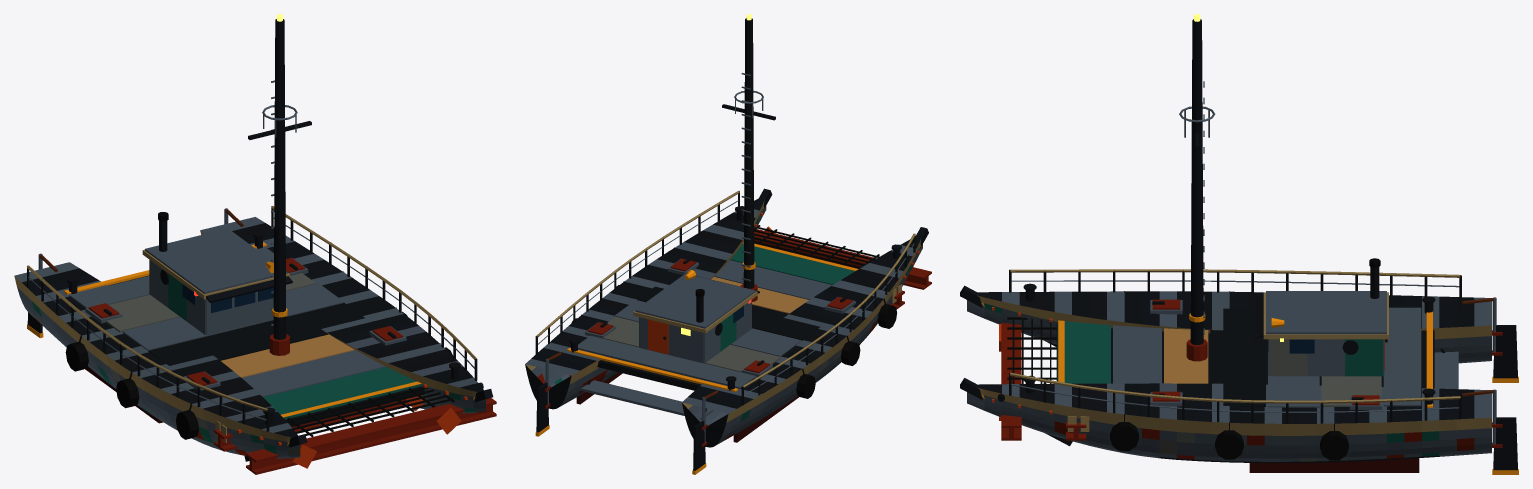
The model's file is tb_ironwake.glb.
3 views of the same model, side by side, from view 1: azimuth 30°, elevation 25°; view 2: azimuth 150°, elevation 25°; view 3: azimuth 270°, elevation 25° (orthographic). The views are drawn at different scales.
Parts seen in each view (by area): view 1: ironwake_deck, ironwake_hulls, ironwake_wheelhouse, ironwake_mast; view 2: ironwake_hulls, ironwake_deck, ironwake_wheelhouse, ironwake_mast, ironwake_rudder_port, ironwake_rudder_starboard; view 3: ironwake_hulls, ironwake_deck, ironwake_wheelhouse, ironwake_mast, ironwake_rudder_port, ironwake_rudder_starboard.
Boxes of the visible parts, <box> form: ironwake_deck: <box>27,206,496,474</box>; ironwake_hulls: <box>14,217,493,461</box>; ironwake_wheelhouse: <box>142,212,292,334</box>; ironwake_mast: <box>248,14,311,355</box>; ironwake_hulls: <box>525,188,928,447</box>; ironwake_deck: <box>535,191,931,419</box>; ironwake_wheelhouse: <box>633,270,759,363</box>; ironwake_mast: <box>722,14,775,301</box>; ironwake_rudder_port: <box>692,390,718,474</box>; ironwake_rudder_starboard: <box>535,352,561,436</box>; ironwake_hulls: <box>960,283,1491,472</box>; ironwake_deck: <box>999,269,1461,440</box>; ironwake_wheelhouse: <box>1254,258,1388,376</box>; ironwake_mast: <box>1179,14,1215,361</box>; ironwake_rudder_port: <box>1462,297,1518,382</box>; ironwake_rudder_starboard: <box>1462,389,1518,474</box>.
Bounding box in the file's own units: 8.18 × 11.28 × 13.85.
